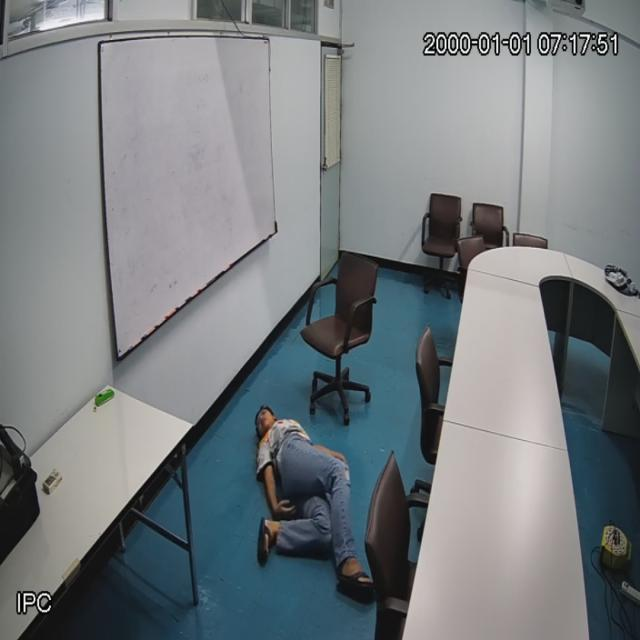fall: (255, 403, 362, 585)
